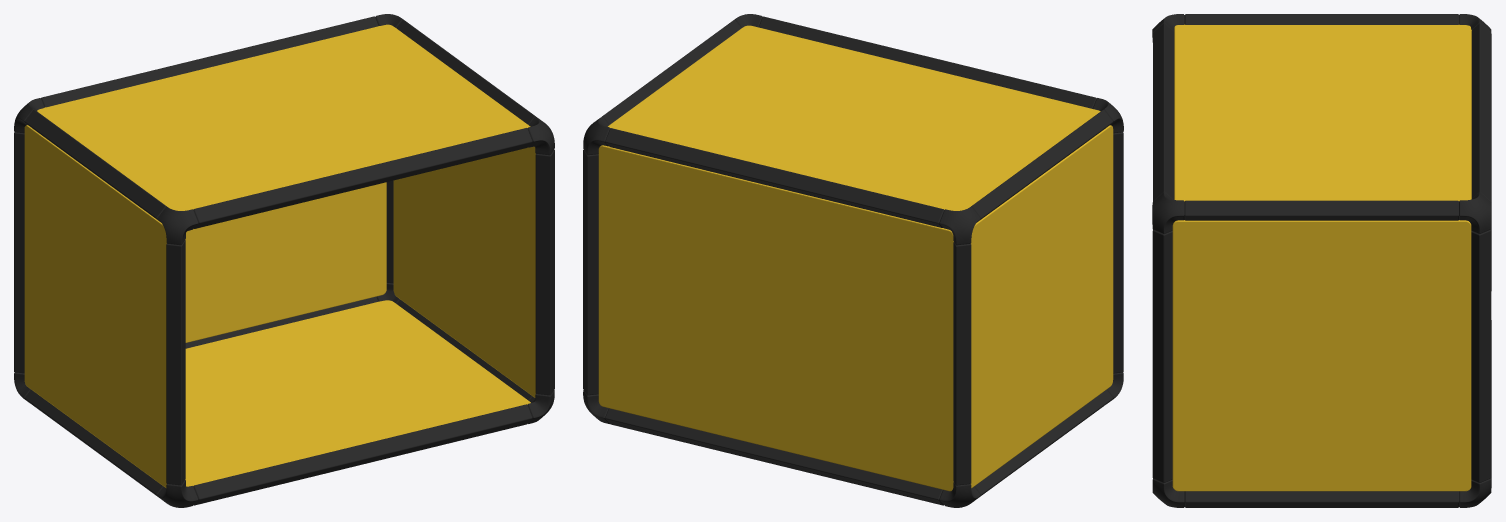
The picture shows the model from 3 angles, left to right: view 1: azimuth 30°, elevation 25°; view 2: azimuth 150°, elevation 25°; view 3: azimuth 270°, elevation 25°; orthographic projection. The views are drawn at different scales.
Parts seen in each view (by area): view 1: 479x329x329; view 2: 479x329x329; view 3: 479x329x329.
Boxes of the visible parts, bbox=[...] form: 479x329x329: bbox=[14, 14, 554, 507]; 479x329x329: bbox=[583, 14, 1123, 507]; 479x329x329: bbox=[1152, 14, 1491, 507].
Bounding box in the file's own units: 0.5567 × 0.4066 × 0.4063.
